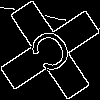C: (25, 25, 82, 84)
